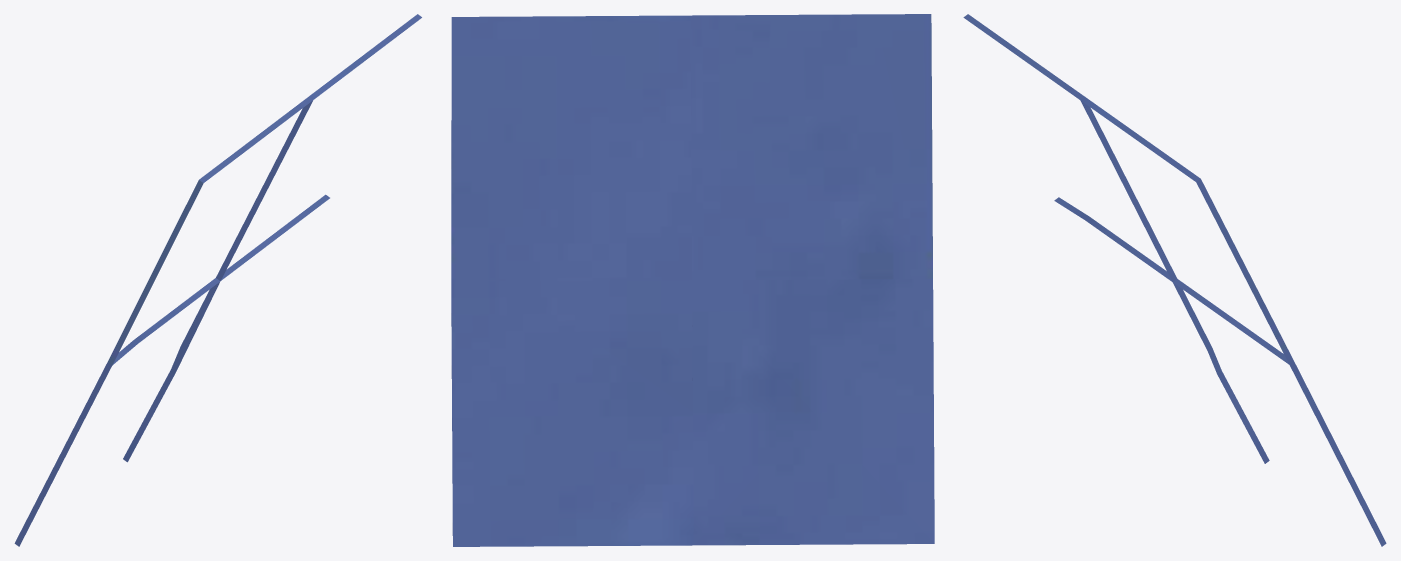
The picture shows the model from 3 angles, left to right: view 1: azimuth 30°, elevation 25°; view 2: azimuth 150°, elevation 25°; view 3: azimuth 270°, elevation 25°; orthographic projection. The views are drawn at different scales.
Bounding box in the file's own units: 19622 × 17846 × 16545.
Materials: 1 (1 with a texture image).
